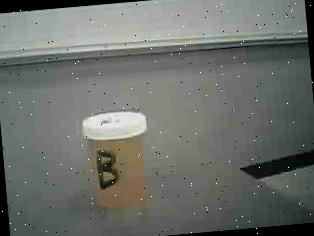Bottle B: (74, 104, 162, 217)
